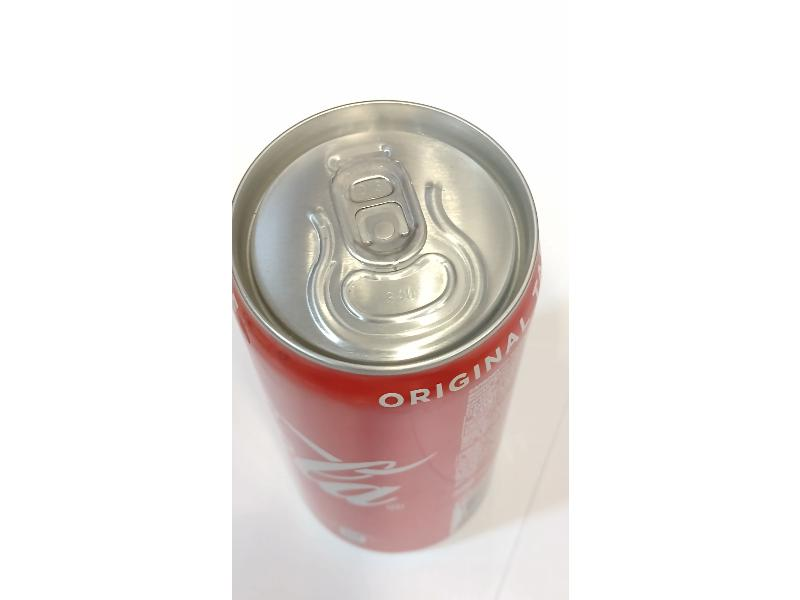can: (220, 90, 541, 561)
